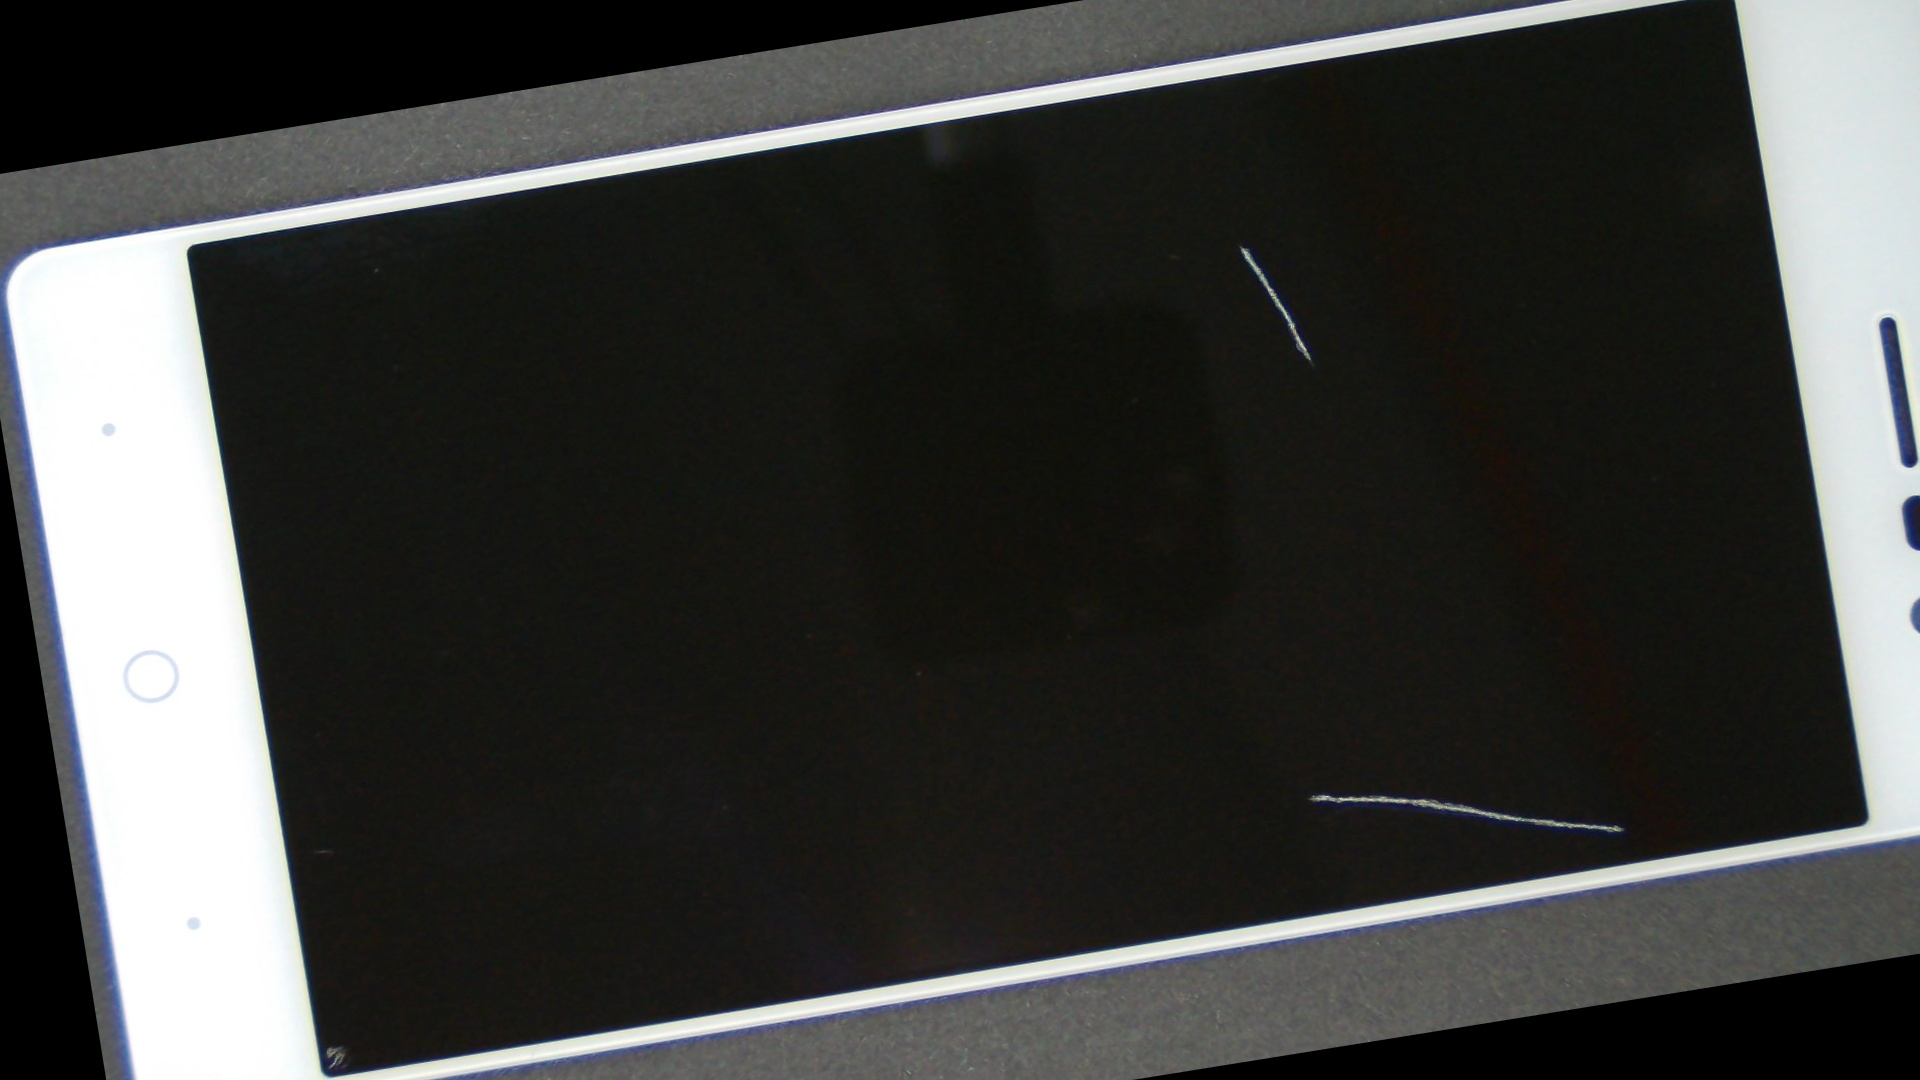oil: (640, 290, 1920, 1080), (601, 13, 1878, 475), (146, 576, 464, 1080)
